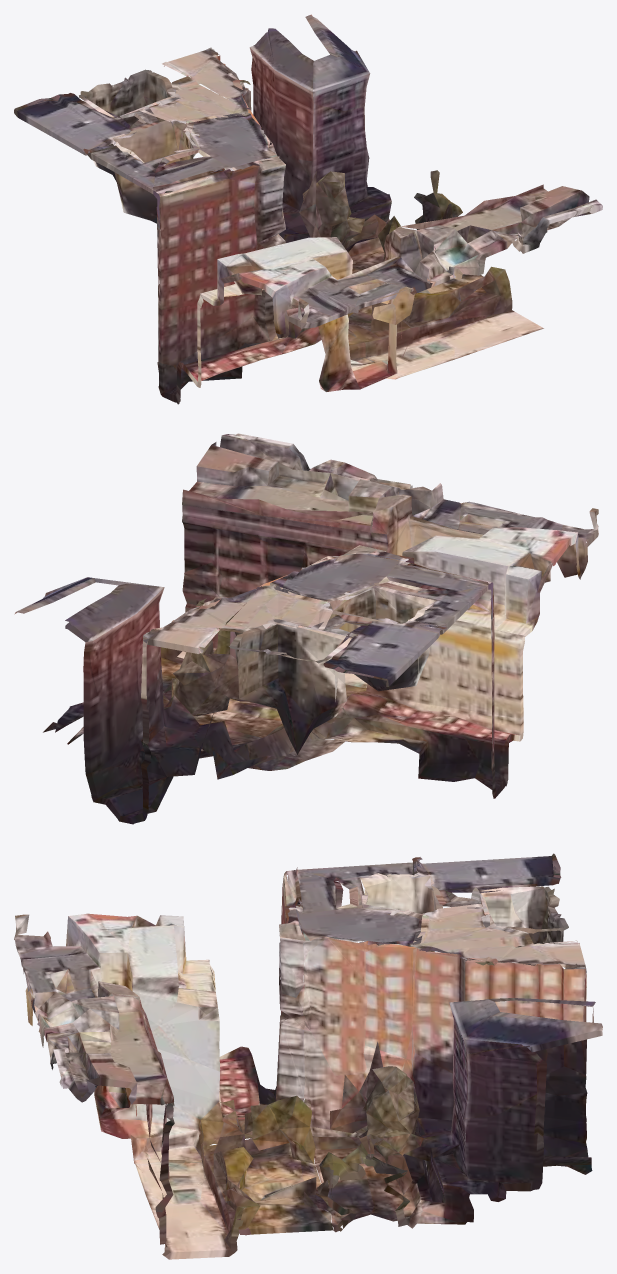
3 views of the same model, one above another, from view 1: azimuth 30°, elevation 25°; view 2: azimuth 150°, elevation 25°; view 3: azimuth 270°, elevation 25° (orthographic). The views are drawn at different scales.
Visible parts, largest first — view 1: Mesh_0; view 2: Mesh_0; view 3: Mesh_0.
Part boxes in pixels (<box>): Mesh_0: <box>14,14,602,404</box>; Mesh_0: <box>14,433,598,824</box>; Mesh_0: <box>14,853,602,1259</box>.
Size of the model in its own units: 66.6 by 35.57 by 82.58.
1 material, 1 textured.
